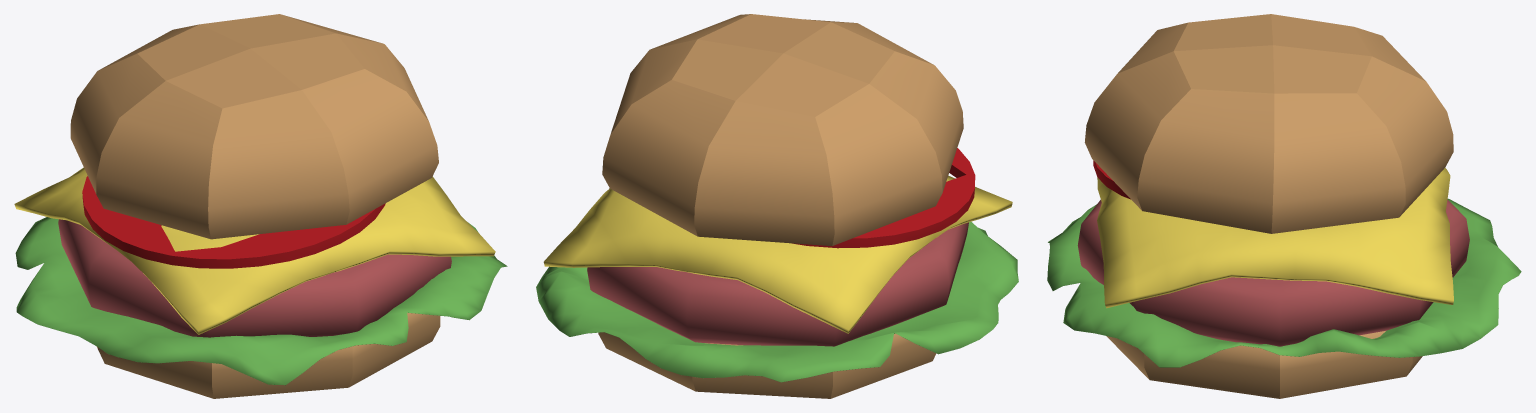
The model's file is hamburger.fbx.
3 renders of one model, left to right at view 1: azimuth 30°, elevation 25°; view 2: azimuth 150°, elevation 25°; view 3: azimuth 270°, elevation 25°, orthographic.
Visible parts, largest first — view 1: Cube.062, Plane.007, Plane.008, Cube.061, Cube.060, Cylinder.007; view 2: Cube.062, Plane.007, Plane.008, Cube.061, Cube.060, Cylinder.007; view 3: Cube.062, Plane.008, Plane.007, Cube.061, Cube.060.
Boxes of the visible parts, x1,y1,x2,y2 form: Cube.062: (70,14,438,239); Plane.007: (15,217,507,385); Plane.008: (14,167,495,334); Cube.061: (58,219,451,337); Cube.060: (96,312,440,398); Cylinder.007: (82,176,385,268); Cube.062: (602,14,963,245); Plane.007: (536,221,1018,382); Plane.008: (543,175,1012,333); Cube.061: (587,188,968,346); Cube.060: (598,332,936,398); Cylinder.007: (792,148,975,248); Cube.062: (1084,14,1453,233); Plane.008: (1097,168,1453,308); Plane.007: (1047,198,1521,367); Cube.061: (1077,199,1469,346); Cube.060: (1106,331,1422,398).
Bounding box in the file's own units: 87.91 × 58.35 × 86.06.
